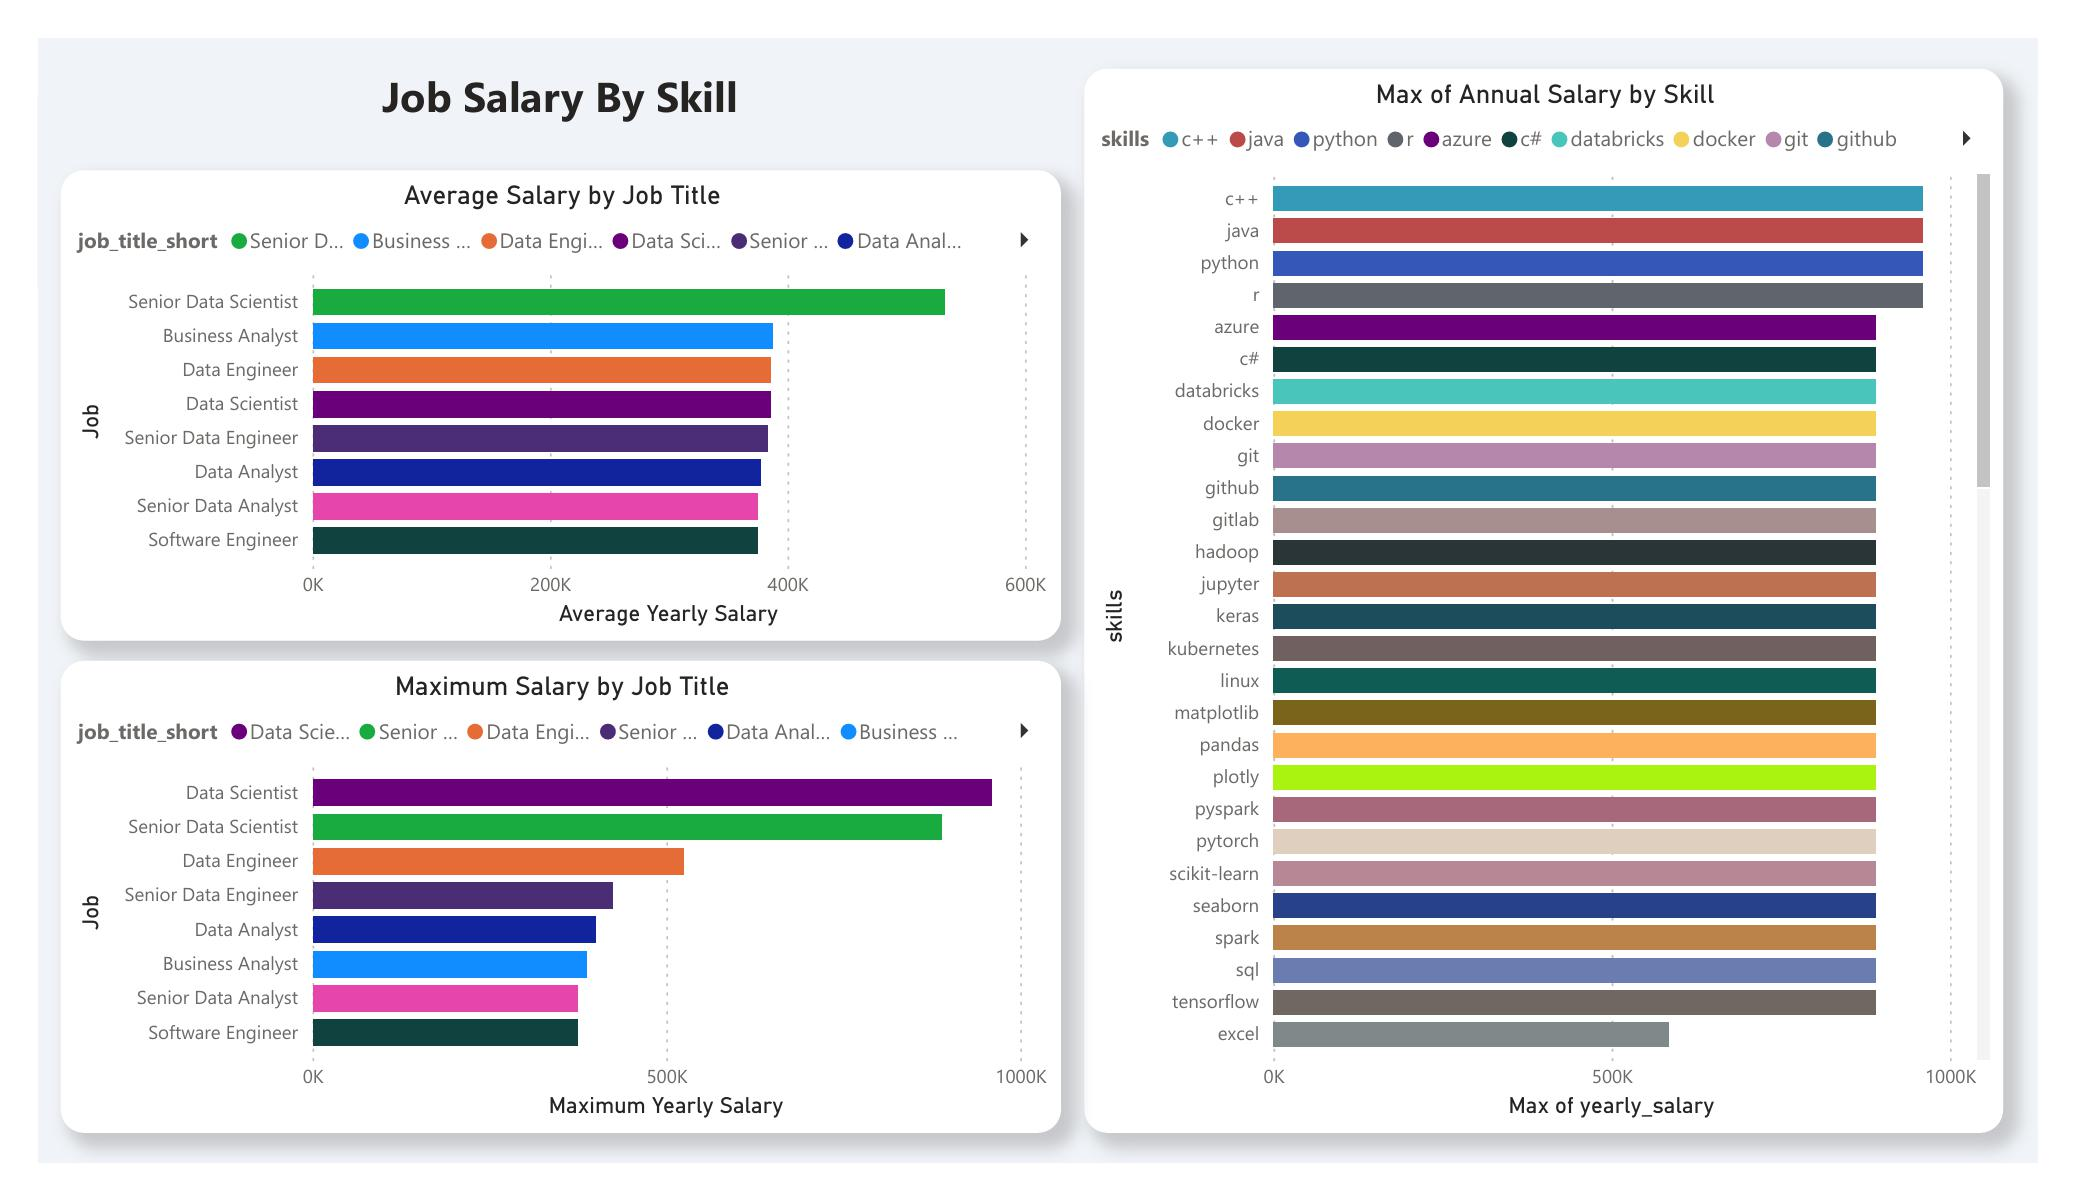

What the dashboard file says about the page in this screenshot:
{"tool":"powerbi","page":{"name":"Page 3","canvas":[1280,720],"ordinal":2},"visuals":[{"type":"barChart","title":"Average Salary by Job Title","fields":{"Category":["Top Paying Jobs by Skill.job_title_short"],"Y":["Avg(Top Paying Jobs by Skill.yearly_salary)"],"Series":["Top Paying Jobs by Skill.job_title_short"]},"box":[14.5,84.5,640,301.8],"z":0},{"type":"textbox","box":[193.6,13.6,281.8,46.4],"z":1000},{"type":"barChart","title":"Max of Annual Salary by Skill","fields":{"Category":["Top Paying Jobs by Skill.skills"],"Y":["Max(Top Paying Jobs by Skill.yearly_salary)"],"Series":["Top Paying Jobs by Skill.skills"]},"box":[670,20,588.2,680.9],"z":2000},{"type":"barChart","title":"Maximum Salary by Job Title","fields":{"Category":["Top Paying Jobs by Skill.job_title_short"],"Y":["Max(Top Paying Jobs by Skill.yearly_salary)"],"Series":["Top Paying Jobs by Skill.job_title_short"]},"box":[14.5,399.1,640,301.8],"z":3000}]}

Visuals, with their boxes on the page's 1280x720 design canvas (x1, y1, x2, y2). These are canvas units, not pixel positions in the 2075x1200 screenshot, which may show the page scaled, cropped or inside an application window:
"Average Salary by Job Title" barChart: crop(14, 84, 654, 386)
textbox: crop(194, 14, 475, 60)
"Max of Annual Salary by Skill" barChart: crop(670, 20, 1258, 701)
"Maximum Salary by Job Title" barChart: crop(14, 399, 654, 701)
